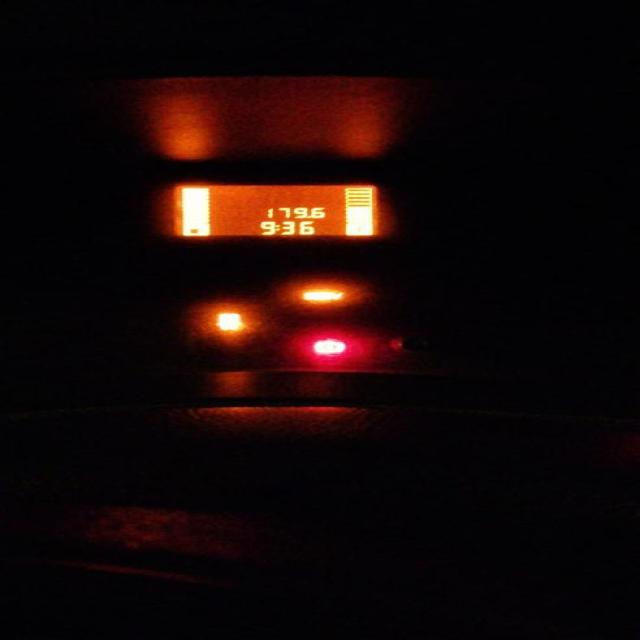odometer: (169, 183, 377, 237)
